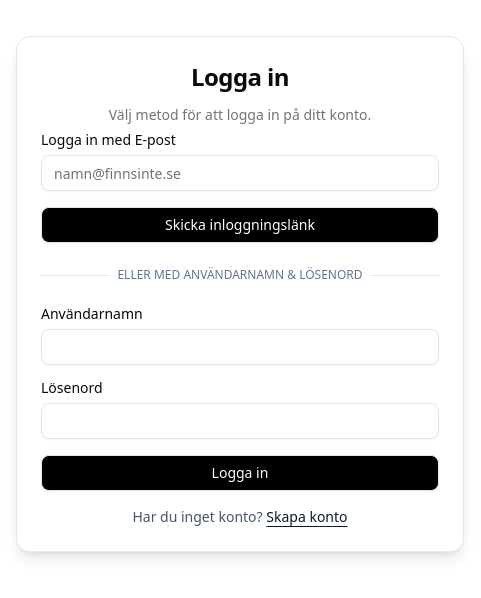
Test: Page: Login › borde calla signIn.magicLink när email är sibmittad
// Hitta e-post fältet och fyll i det.
Type "test@example.com" into the field labelled "Logga in med E-post" at point(240, 173), box [41, 155, 439, 191]
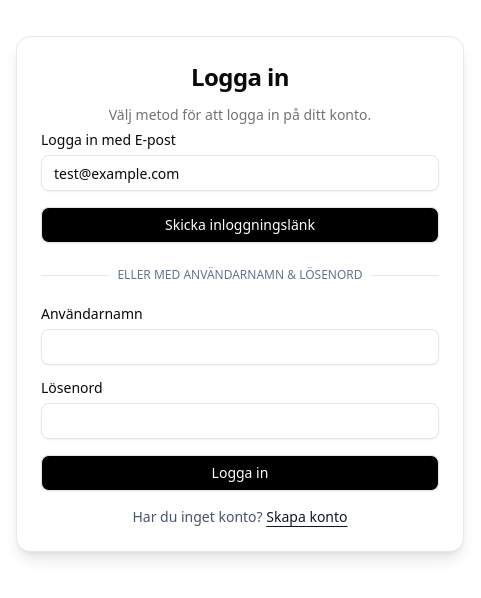
Click the button "Skicka inloggningslänk" at point(240, 225), box [41, 207, 439, 243]
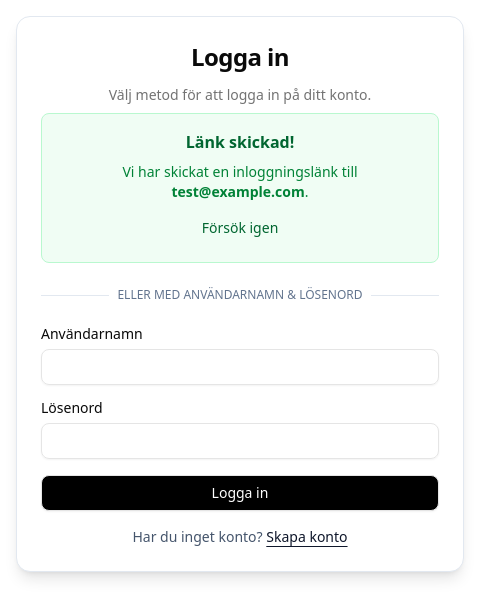
Expected: the heading "Länk skickad!" is shown, [186, 131, 294, 153]
